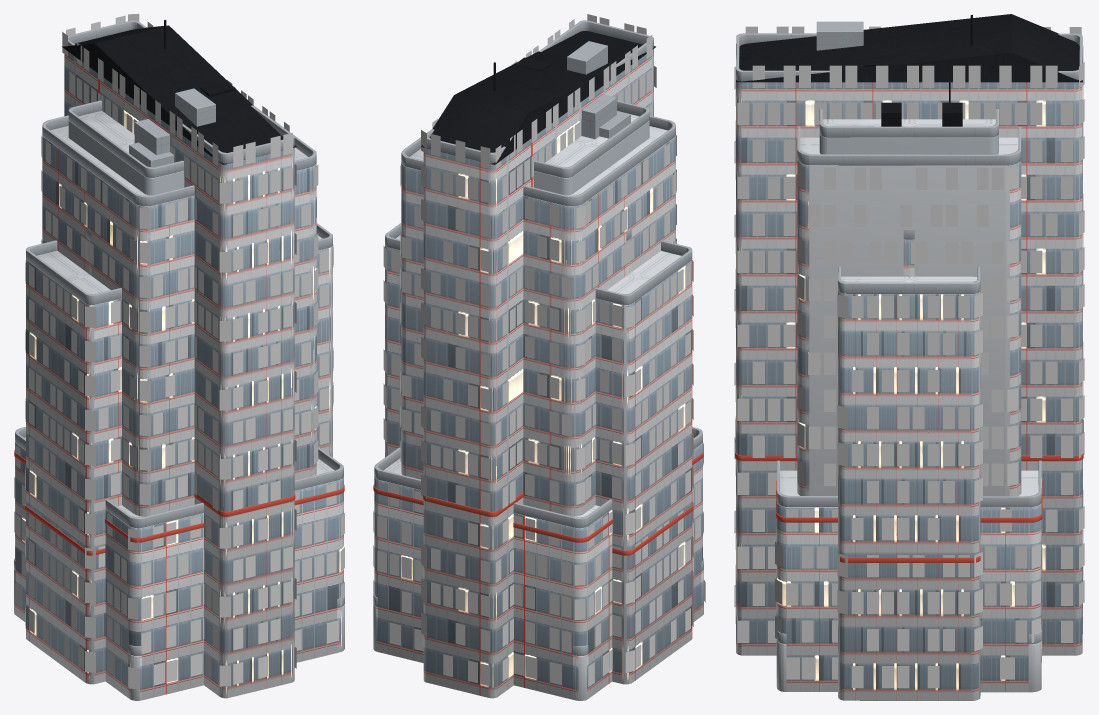
File: SM_ME_Skylines_v1.fbx
3 views of the same model, side by side, from view 1: azimuth 30°, elevation 25°; view 2: azimuth 150°, elevation 25°; view 3: azimuth 270°, elevation 25° (orthographic). The views are drawn at different scales.
Parts seen in each view (by area): view 1: SM_ME_TowerBlade_v1, SM_ME_TowerCham_v1, SM_ME_SlabRC_v1, SM_ME_TowerStep_v1, SM_ME_TowerBlade_v1_WinDusk, SM_ME_TowerCham_v1_WinDusk, SM_ME_SlabRC_v1_WinDusk, SM_ME_TowerStep_v1_WinDusk, SM_ME_TowerDS_v1, SM_ME_TowerBlade_v1_WinDay, SM_ME_SlabRC_v1_WinDay, SM_ME_TowerCham_v1_WinDay (+3 smaller); view 2: SM_ME_TowerBlade_v1, SM_ME_TowerCham_v1, SM_ME_SlabRC_v1, SM_ME_TowerStep_v1, SM_ME_TowerBlade_v1_WinDusk, SM_ME_SlabRC_v1_WinDusk, SM_ME_TowerCham_v1_WinDusk, SM_ME_TowerStep_v1_WinDusk, SM_ME_TowerDS_v1, SM_ME_TowerBlade_v1_WinDay, SM_ME_SlabRC_v1_WinDay, SM_ME_Podium_v1 (+2 smaller); view 3: SM_ME_TowerBlade_v1, SM_ME_SlabRC_v1, SM_ME_TowerCham_v1, SM_ME_TowerBlade_v1_WinDusk, SM_ME_TowerStep_v1, SM_ME_SlabRC_v1_WinDusk, SM_ME_TowerCham_v1_WinDusk, SM_ME_TowerDS_v1, SM_ME_TowerStep_v1_WinDusk, SM_ME_TowerBlade_v1_WinDay, SM_ME_SlabRC_v1_WinDay, SM_ME_Podium_v1 (+2 smaller).
Boxes of the visible parts, left/top/right/bottom form: SM_ME_TowerBlade_v1: left=62, top=20, right=296, bottom=698; SM_ME_TowerCham_v1: left=42, top=106, right=316, bottom=516; SM_ME_SlabRC_v1: left=25, top=223, right=332, bottom=684; SM_ME_TowerStep_v1: left=14, top=427, right=344, bottom=700; SM_ME_TowerBlade_v1_WinDusk: left=62, top=14, right=296, bottom=686; SM_ME_TowerCham_v1_WinDusk: left=41, top=135, right=318, bottom=505; SM_ME_SlabRC_v1_WinDusk: left=25, top=244, right=333, bottom=669; SM_ME_TowerStep_v1_WinDusk: left=14, top=445, right=344, bottom=687; SM_ME_TowerDS_v1: left=68, top=100, right=184, bottom=195; SM_ME_TowerBlade_v1_WinDay: left=98, top=92, right=243, bottom=684; SM_ME_SlabRC_v1_WinDay: left=29, top=295, right=95, bottom=672; SM_ME_TowerCham_v1_WinDay: left=81, top=201, right=318, bottom=463; SM_ME_TowerBlade_v1: left=421, top=20, right=655, bottom=698; SM_ME_TowerCham_v1: left=401, top=111, right=675, bottom=516; SM_ME_SlabRC_v1: left=385, top=223, right=693, bottom=684; SM_ME_TowerStep_v1: left=373, top=427, right=703, bottom=699; SM_ME_TowerBlade_v1_WinDusk: left=421, top=14, right=656, bottom=683; SM_ME_SlabRC_v1_WinDusk: left=383, top=246, right=693, bottom=672; SM_ME_TowerCham_v1_WinDusk: left=400, top=135, right=676, bottom=504; SM_ME_TowerStep_v1_WinDusk: left=373, top=442, right=703, bottom=686; SM_ME_TowerDS_v1: left=533, top=94, right=649, bottom=195; SM_ME_TowerBlade_v1_WinDay: left=455, top=69, right=652, bottom=686; SM_ME_SlabRC_v1_WinDay: left=612, top=268, right=693, bottom=668; SM_ME_Podium_v1: left=373, top=558, right=703, bottom=700; SM_ME_TowerBlade_v1: left=735, top=14, right=1083, bottom=655; SM_ME_SlabRC_v1: left=837, top=266, right=980, bottom=700; SM_ME_TowerCham_v1: left=797, top=82, right=1021, bottom=496; SM_ME_TowerBlade_v1_WinDusk: left=734, top=26, right=1084, bottom=642; SM_ME_TowerStep_v1: left=776, top=460, right=1042, bottom=692; SM_ME_SlabRC_v1_WinDusk: left=837, top=293, right=982, bottom=688; SM_ME_TowerCham_v1_WinDusk: left=797, top=163, right=1018, bottom=486; SM_ME_TowerDS_v1: left=819, top=102, right=998, bottom=154; SM_ME_TowerStep_v1_WinDusk: left=775, top=485, right=1042, bottom=679; SM_ME_TowerBlade_v1_WinDay: left=752, top=85, right=1083, bottom=625; SM_ME_SlabRC_v1_WinDay: left=867, top=296, right=909, bottom=688; SM_ME_Podium_v1: left=776, top=630, right=1041, bottom=692.
Bounding box in the file's own units: 3034 × 3430 × 6800.
